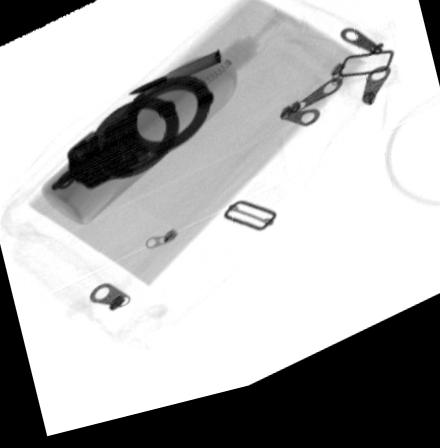Bullet: (126, 59, 219, 100)
HandCuffs: (49, 81, 215, 196)
